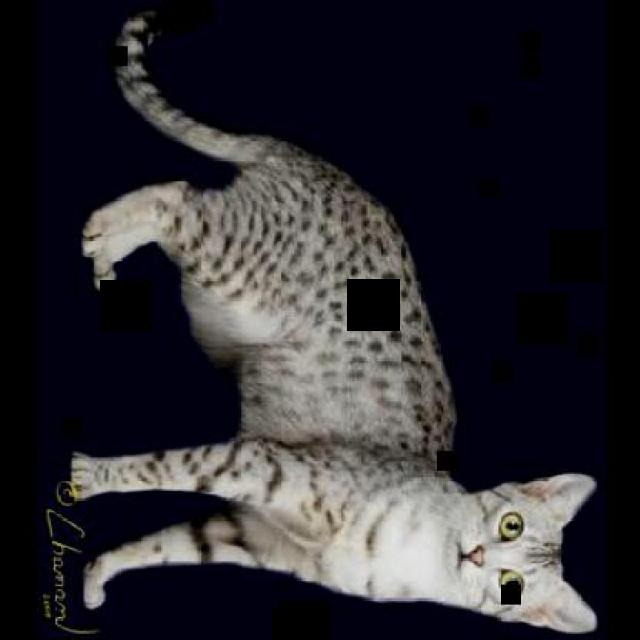unauthorized: (67, 3, 598, 635), (67, 437, 598, 634)
